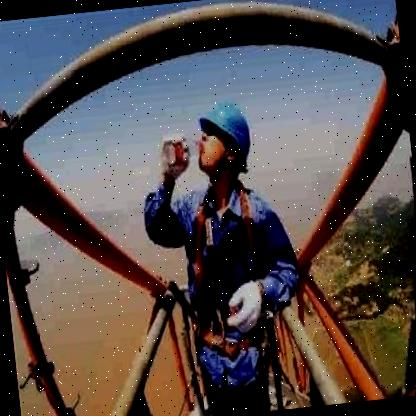capacete: (189, 97, 255, 179)
sem_colete_refletivo: (167, 176, 309, 390)
